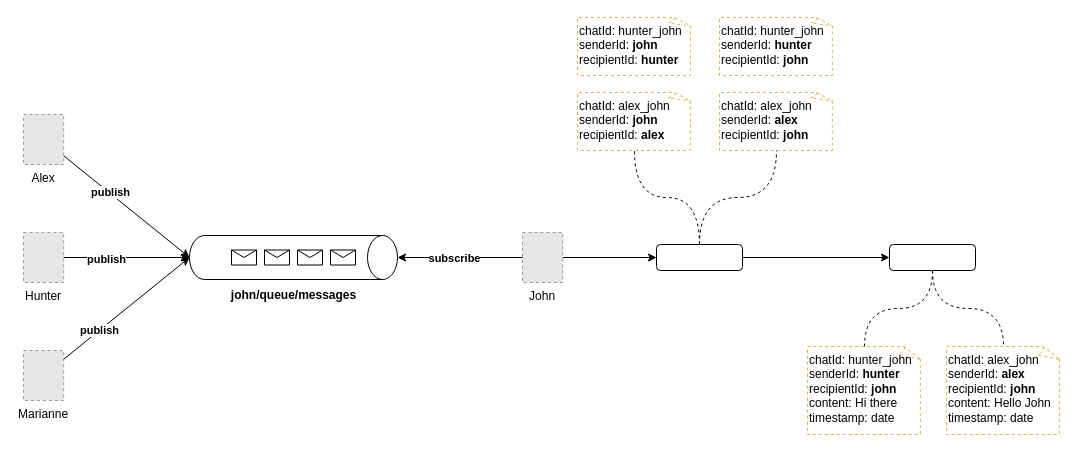
Some shapes in this 1078 by 452 pixel diagram are drawn without their labels. Grey dashed boxes stand in for pictures. The centre of each missing label's shape, as x and y in pixels:
"ChatMessage" goes at (x=932, y=257).
"ChatRoom" goes at (x=699, y=257).
